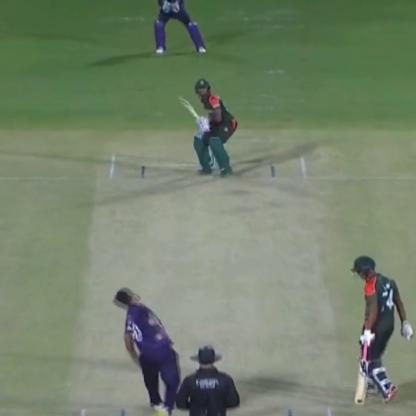ball: (153, 335, 164, 346)
pitch: (69, 143, 348, 415)
